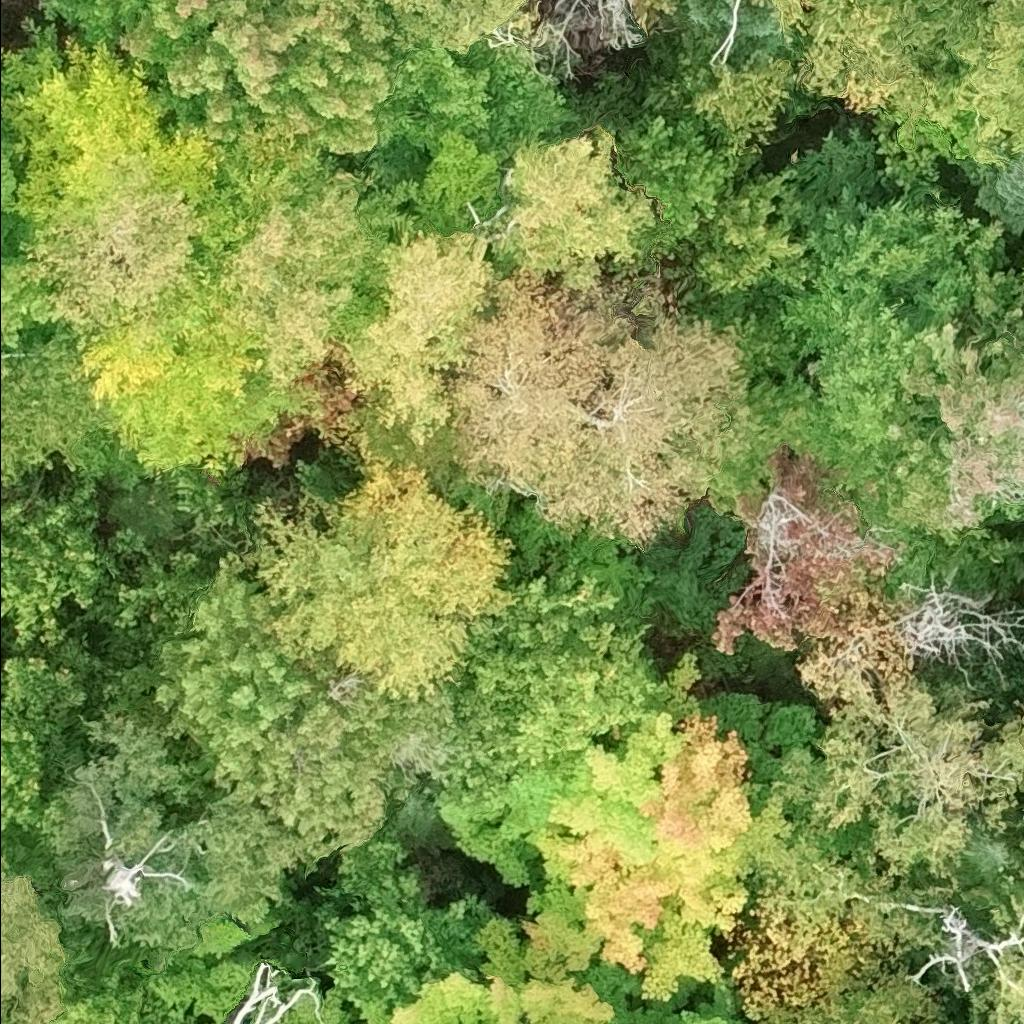crown: (441, 709, 797, 1005), (447, 263, 749, 550), (0, 19, 330, 252), (248, 430, 520, 703), (155, 548, 393, 852), (37, 0, 406, 153), (60, 301, 323, 481), (185, 170, 392, 385), (809, 674, 1023, 879), (707, 443, 892, 655), (342, 227, 503, 452), (372, 883, 627, 1023), (314, 831, 493, 1023), (879, 322, 1023, 552), (17, 191, 213, 329), (504, 130, 658, 291), (0, 637, 89, 875), (0, 479, 119, 655), (0, 332, 116, 482), (615, 113, 741, 247), (693, 166, 811, 297), (795, 0, 929, 114), (0, 121, 61, 362), (761, 953, 951, 1023), (0, 851, 67, 1023), (692, 56, 800, 162), (955, 0, 1023, 153), (394, 0, 537, 50), (954, 807, 1023, 903), (865, 0, 969, 62), (616, 978, 753, 1023), (728, 0, 799, 60), (973, 156, 1023, 236), (672, 0, 731, 37), (386, 0, 459, 19), (776, 0, 810, 27), (1009, 313, 1023, 354), (0, 67, 22, 90), (0, 1006, 16, 1023), (0, 306, 9, 336), (1016, 296, 1023, 307), (1021, 836, 1023, 846)
